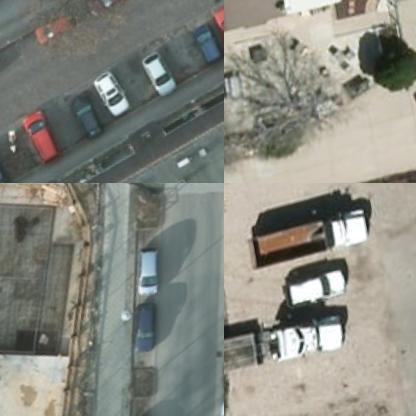car: (278, 270, 348, 311), (16, 106, 56, 170), (124, 244, 163, 300), (136, 49, 173, 105), (121, 298, 158, 354), (87, 68, 124, 122), (64, 87, 100, 142), (185, 17, 219, 71), (29, 10, 72, 48), (206, 5, 223, 62), (89, 0, 136, 12)
truck: (224, 297, 350, 400), (244, 202, 370, 282)
